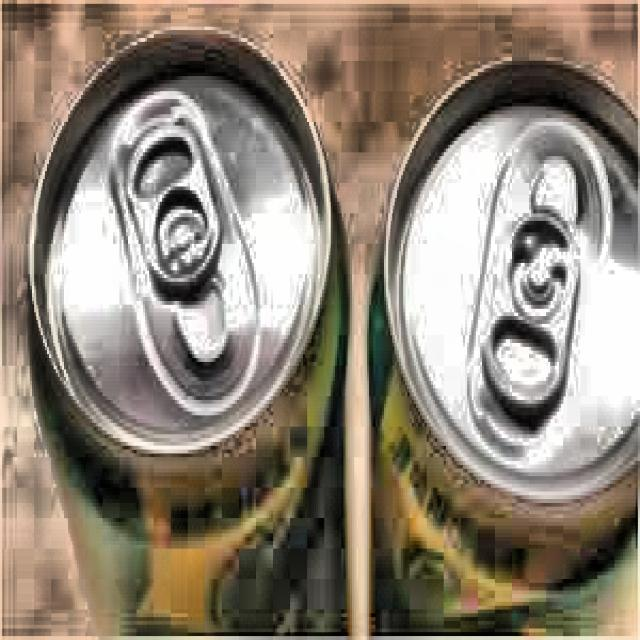can: (21, 20, 359, 640), (363, 44, 640, 640)
